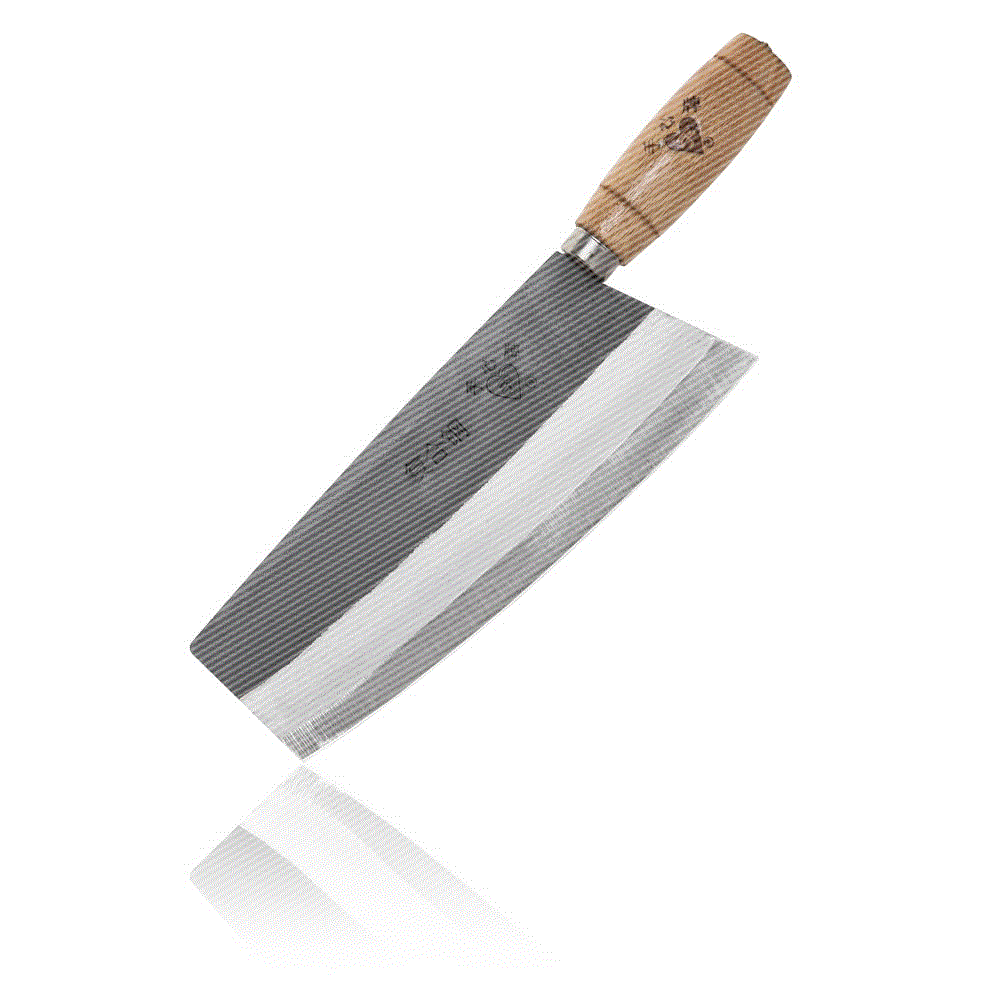knief: (281, 14, 835, 751)
